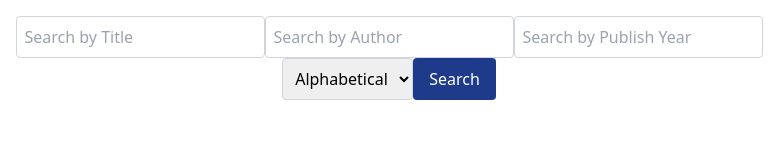
Scenario: Launch All Tests › AdvancedResearchAlt component › shouldRenderLoadingText_whenLoadingIsTrue
The image size is (780, 160).
What coordinates should you click on to do the following:
click the button "Search"
I would click on:
 (454, 79)
Its box is [413,58,496,100].
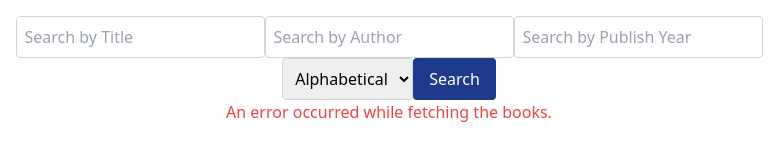
expect the text "Loading..." is shown: met, box [226,100,552,124]
